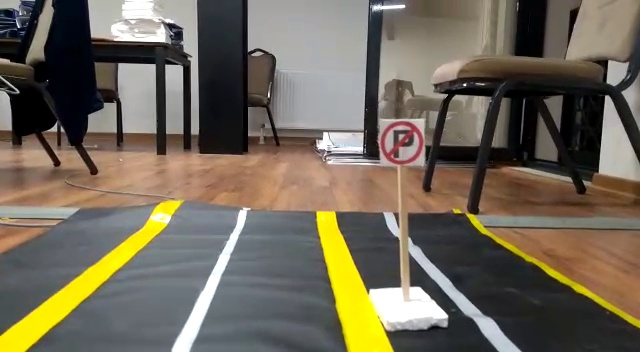park_yapilmaz: (378, 120, 425, 168)
